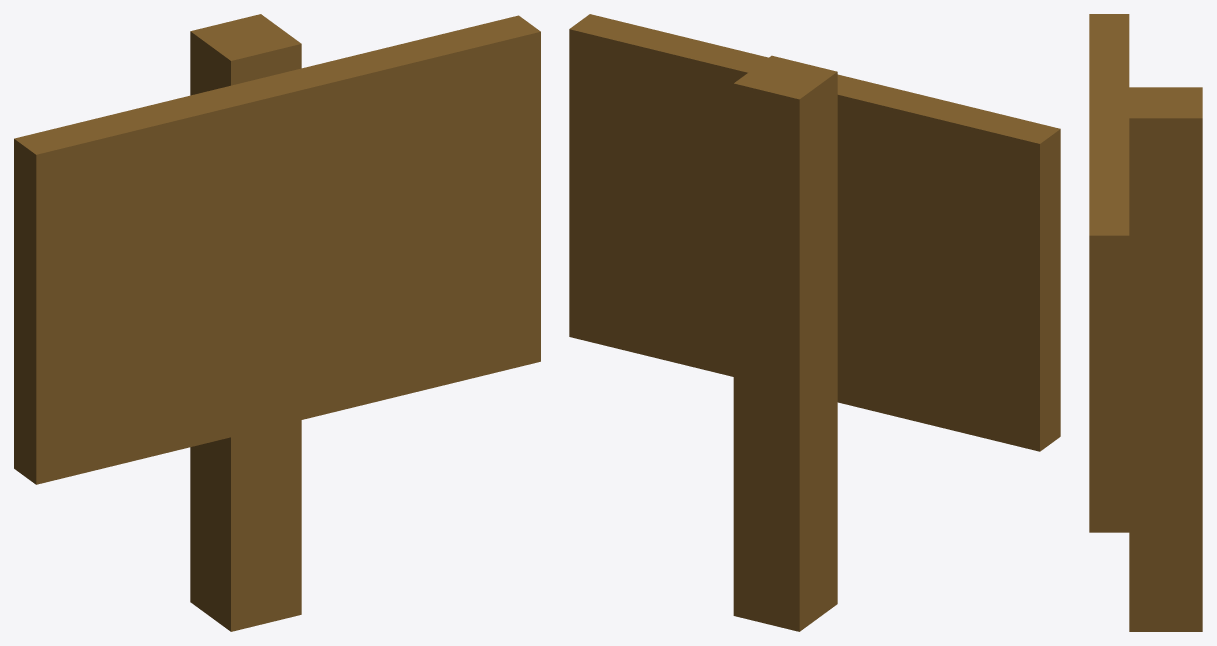
The model's file is CartelMadera.glb.
3 views of the same model, side by side, from view 1: azimuth 30°, elevation 25°; view 2: azimuth 150°, elevation 25°; view 3: azimuth 270°, elevation 25° (orthographic). The views are drawn at different scales.
Visible parts, largest first — view 1: CartelMadera; view 2: CartelMadera; view 3: CartelMadera.
Part boxes in pixels (x1,y1,x2,y2): CartelMadera: (14, 14, 540, 631); CartelMadera: (569, 14, 1060, 631); CartelMadera: (1089, 14, 1202, 631).
Bounding box in the file's own units: 0.6336 × 0.6848 × 0.1369.
